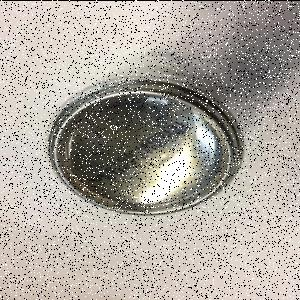Can: (44, 51, 246, 217)
